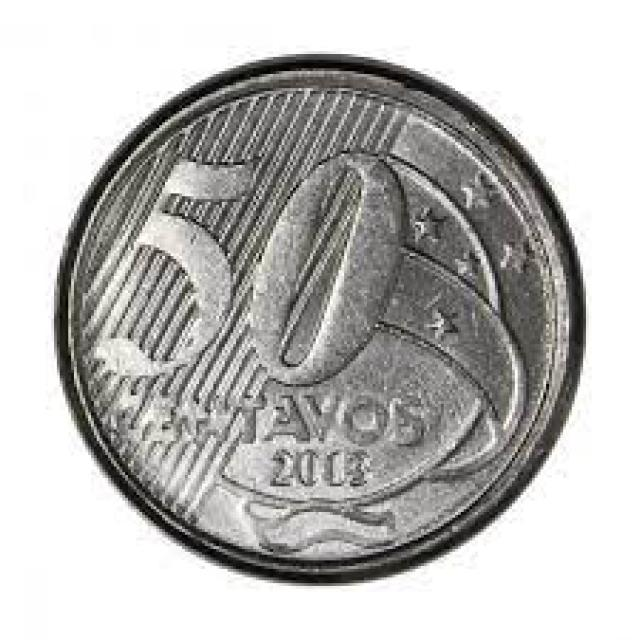50 cent: (52, 49, 586, 586)
